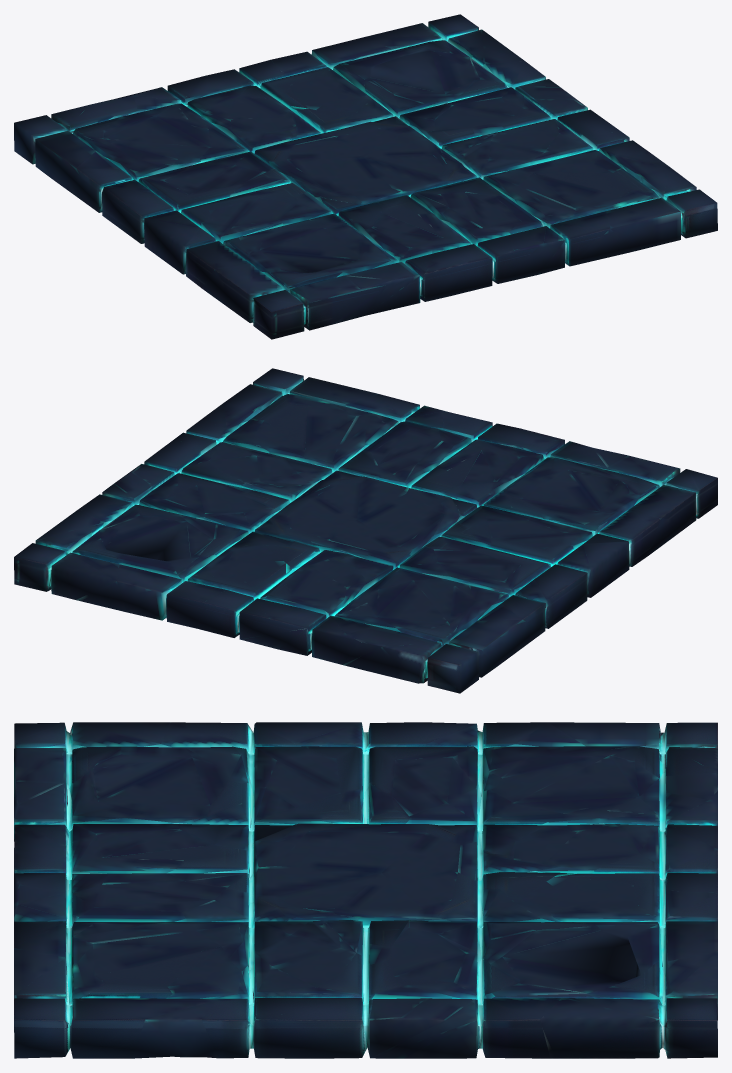
Rendered from floor-panel.glb.
The picture shows the model from 3 angles, top to bottom: view 1: azimuth 30°, elevation 25°; view 2: azimuth 150°, elevation 25°; view 3: azimuth 270°, elevation 25°; orthographic projection. The views are drawn at different scales.
Size of the model in its own units: 1.91 by 0.1251 by 1.91.
1 material, 1 textured.
